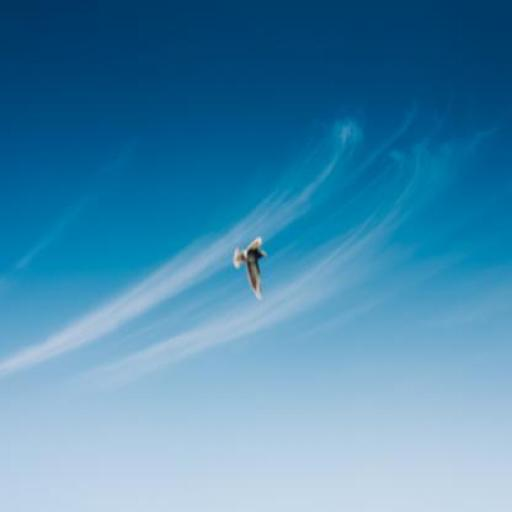bird: (234, 236, 268, 299)
